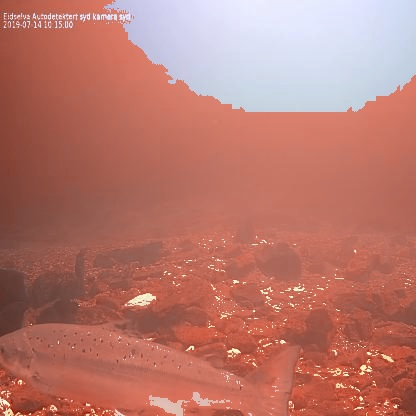salmon: (0, 316, 304, 416)
